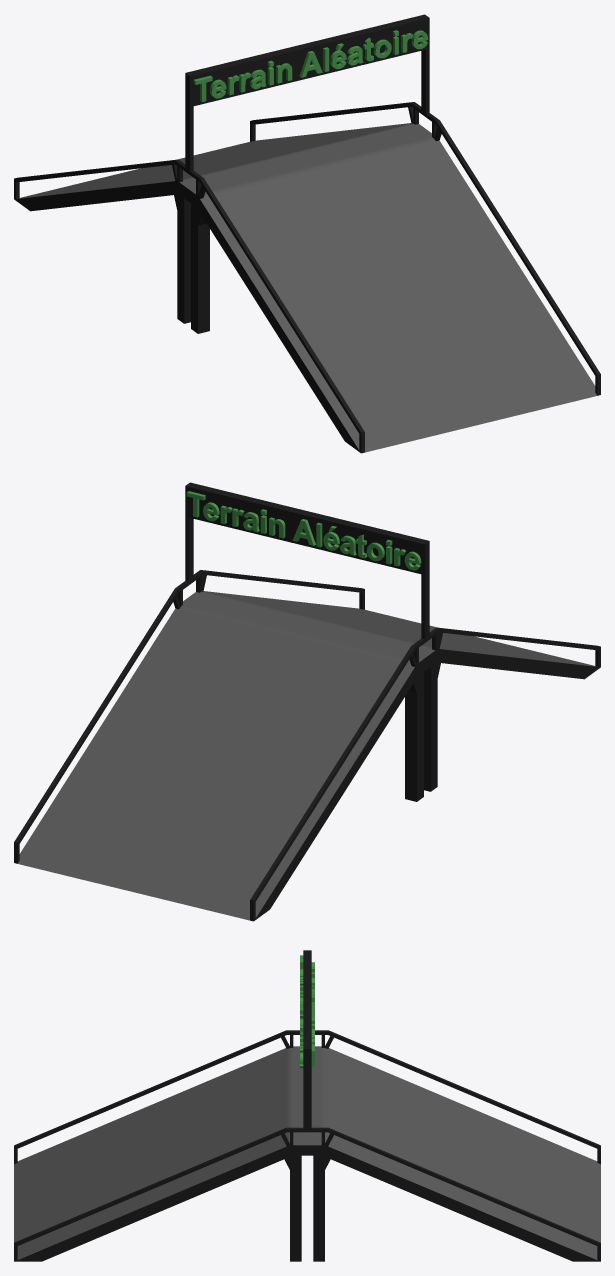
Rendered from Pont Droit v6.fbx.
The picture shows the model from 3 angles, top to bottom: view 1: azimuth 30°, elevation 25°; view 2: azimuth 150°, elevation 25°; view 3: azimuth 270°, elevation 25°; orthographic projection. The views are drawn at different scales.
Visible parts, largest first — view 1: Body1; view 2: Body1; view 3: Body1.
Part boxes in pixels (box(x1,y1,x2,y2)): Body1: box(14, 14, 600, 453); Body1: box(14, 482, 600, 921); Body1: box(14, 950, 600, 1261).
Bounding box in the file's own units: 20 × 20.07 × 50.18.
